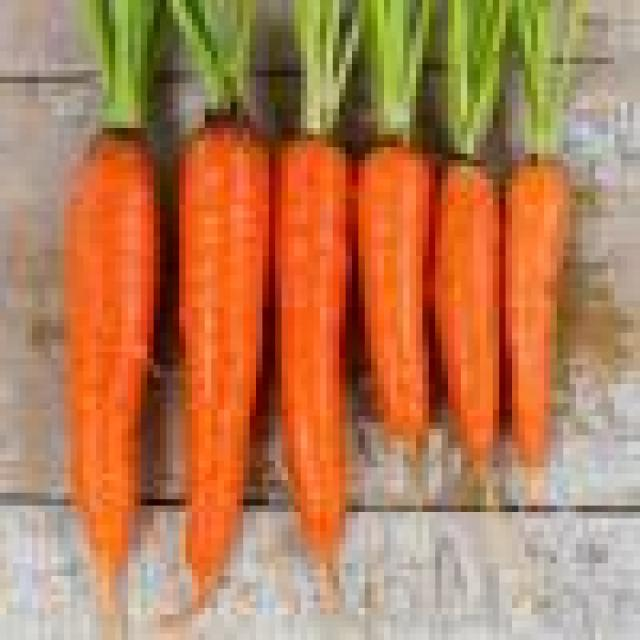Fresh_Carrot: (67, 124, 576, 573), (170, 135, 290, 594), (63, 141, 147, 563), (272, 135, 347, 579), (494, 162, 576, 473), (436, 159, 503, 464), (378, 138, 435, 448)
